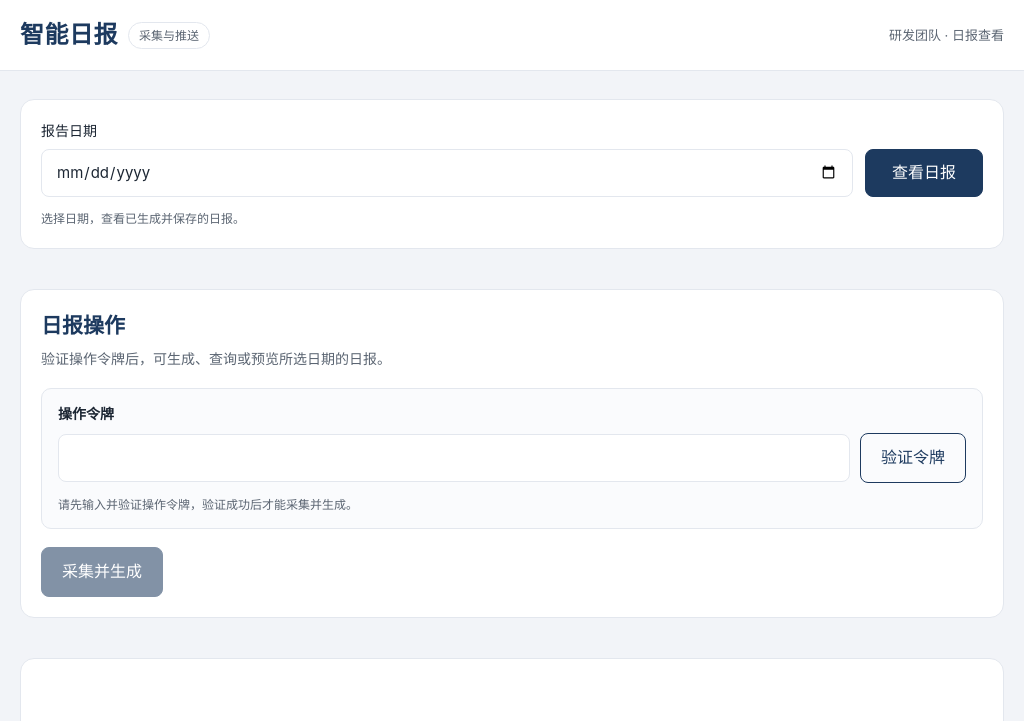
Test case: lost_post_response_queries_original_key_without_resubmitting
The image size is (1024, 721).
Type "2026-09-25" into the date field labelled "报告日期". click: [447, 173]
box: [41,149,853,197]
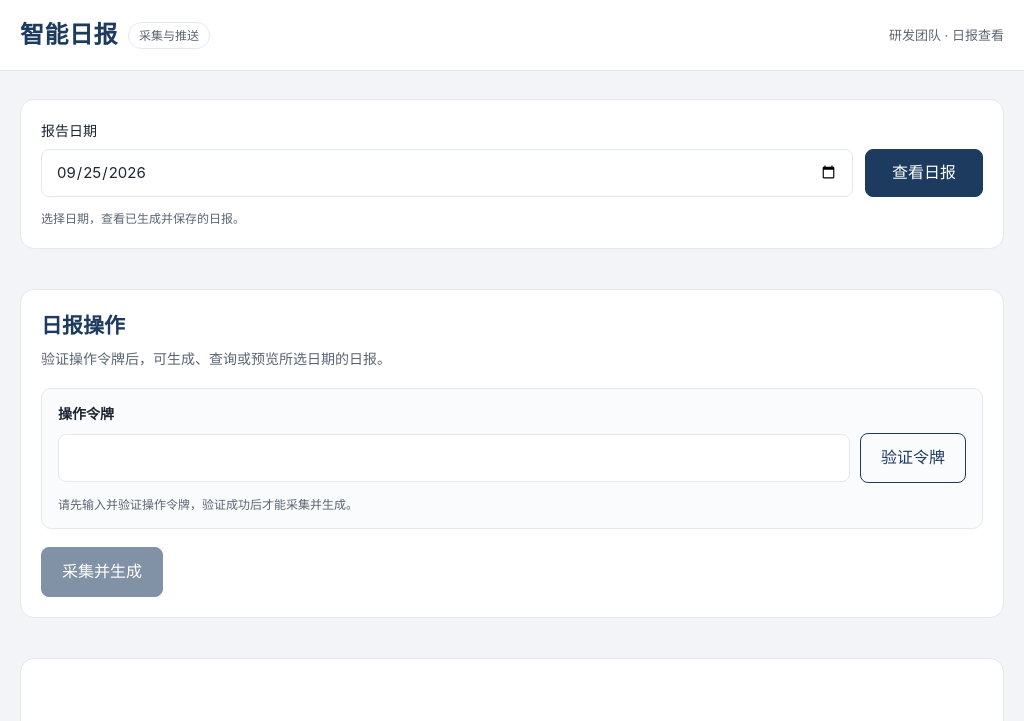
Type "private-token" into the password field labelled "操作令牌". click: [454, 458]
box: [58,434,850,482]
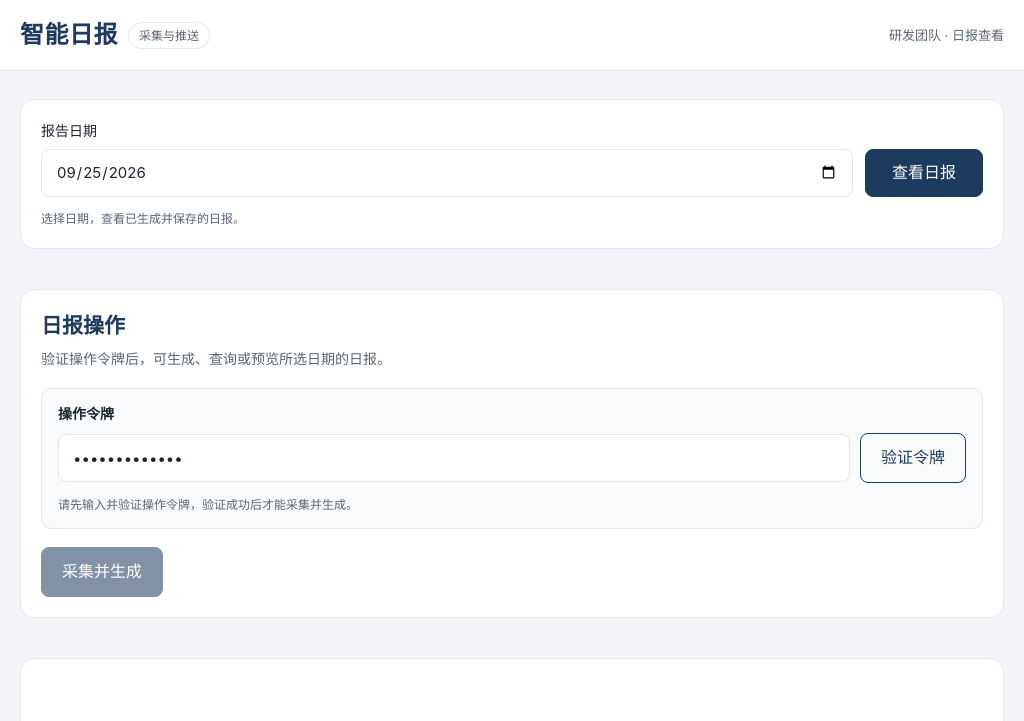
Click the button "验证令牌". click: [913, 458]
box: [860,433,966,483]
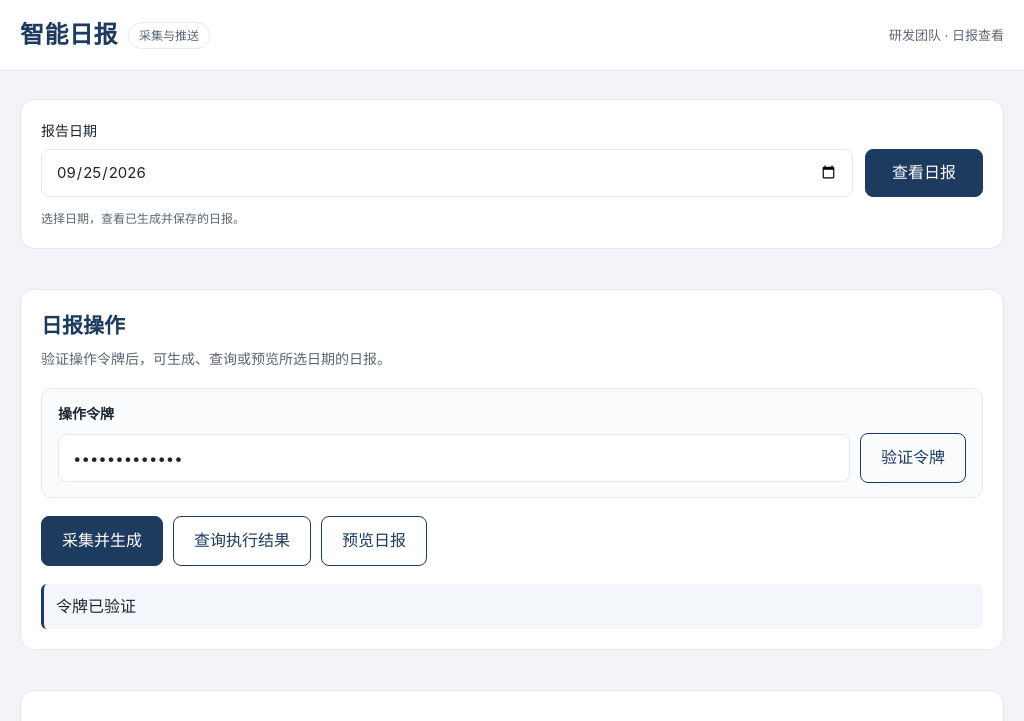
Expected: the button "采集并生成" is enabled
Click the button "采集并生成". click: [102, 541]
box: [41,516,163,566]
(page scrolled)
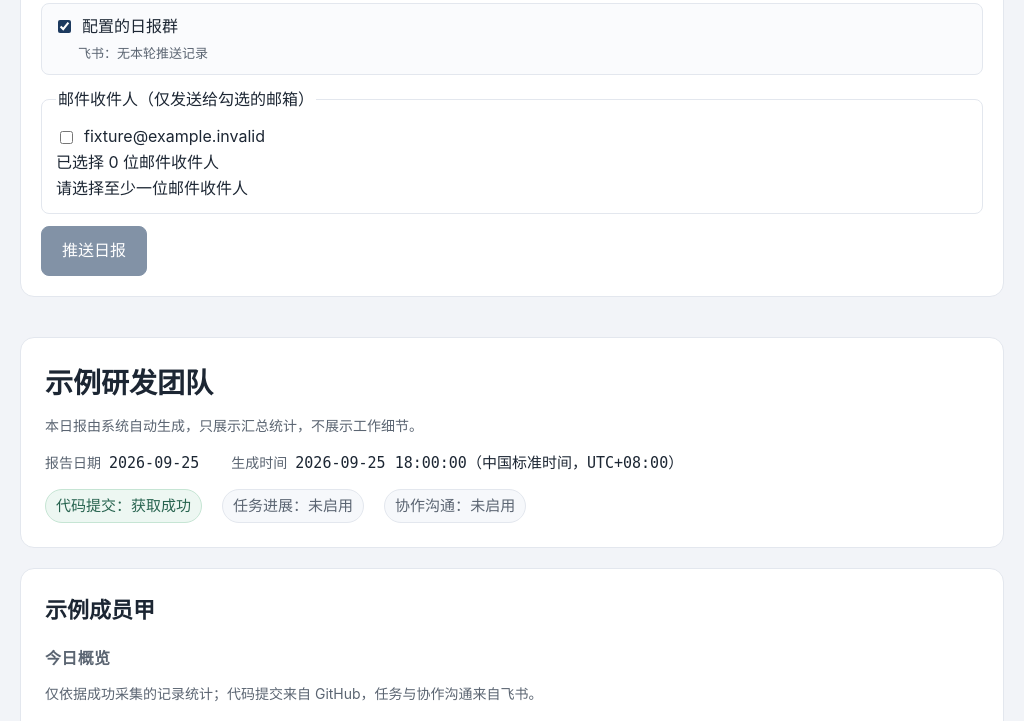
Expected: the heading "示例研发团队" is shown, [45,368,213,399]
